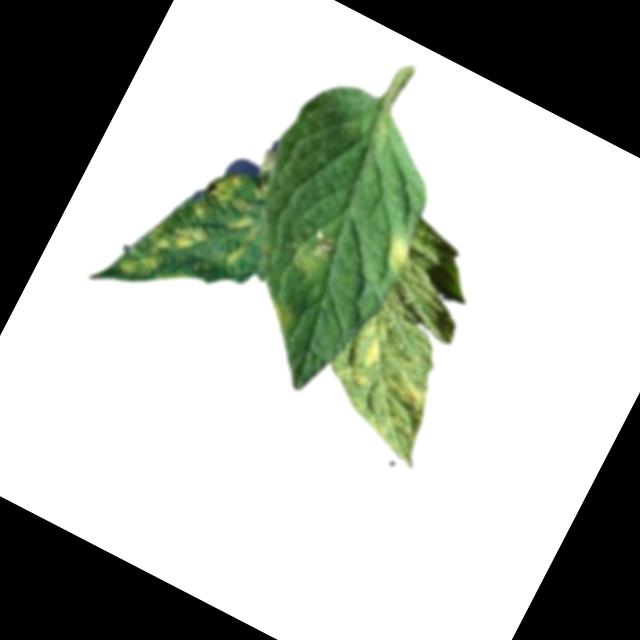Leaf_Mold: (354, 369, 442, 464), (333, 313, 395, 391), (209, 207, 265, 273), (151, 209, 209, 264), (370, 230, 417, 277), (116, 243, 164, 285), (204, 163, 246, 210)
